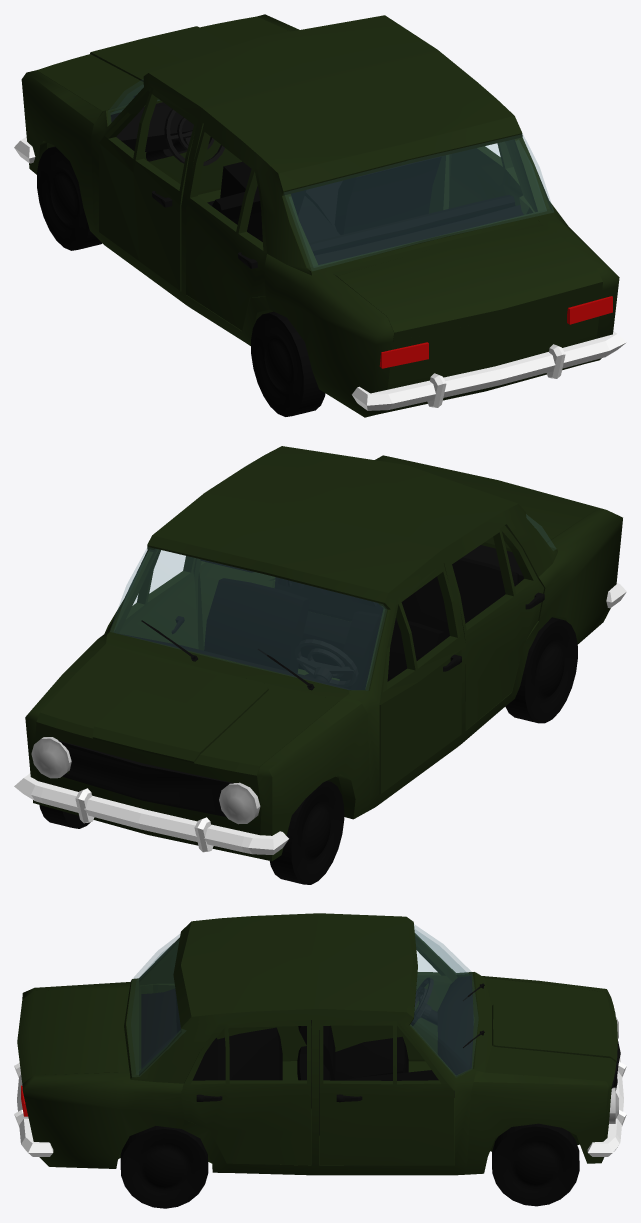
File: VAZ_2110.FBX
3 renders of one model, top to bottom at view 1: azimuth 30°, elevation 25°; view 2: azimuth 150°, elevation 25°; view 3: azimuth 270°, elevation 25°, orthographic. The views are drawn at different scales.
Parts seen in each view (by area): view 1: VAZ_2101_Body_002, VAZ_2101_Bagaj_002, VAZ_2101_wing_backwrd_left_001, VAZ_2101_door_forward_left_002, VAZ_2101_door_backward_left_01, VAZ_2101_Hood_002, VAZ_2101_wing_forwrd_left_002, VAZ_2101_Ram_backwd_002, VAZ_2101_wheel_Backwd_left_002, VAZ_2101_wheel_Forwd_left_002, VAZ_2101_door_backward_right_002, object 14 (+2 smaller); view 2: VAZ_2101_Body_002, VAZ_2101_Hood_002, VAZ_2101_door_forward_left_002, VAZ_2101_wing_forwrd_left_002, VAZ_2101_door_backward_left_01, VAZ_2101_wing_backwrd_left_001, VAZ_2101_ram_forward_002, VAZ_2101_wheel_Backwd_left_002, VAZ_2101_wheel_Forwd_left_002, VAZ_2101_door_forward_right_002, VAZ_2101_Bagaj_002, VAZ_2101_door_backward_right_002 (+3 smaller); view 3: VAZ_2101_Body_002, VAZ_2101_door_forward_right_002, VAZ_2101_Hood_002, object 14, VAZ_2101_door_backward_right_002, VAZ_2101_wing_w, VAZ_2101_Bagaj_002, VAZ_2101_wheel_Forwd_right_002, VAZ_2101_wheel_Backwd_right_002, VAZ_2101_door_forward_left_002, VAZ_2101_ram_forward_002, VAZ_2101_door_backward_left_01 (+4 smaller).
Boxes of the visible parts, x1,y1,x2,y2 form: VAZ_2101_Body_002: [47, 15, 612, 414]; VAZ_2101_Bagaj_002: [337, 225, 602, 341]; VAZ_2101_wing_backwrd_left_001: [264, 254, 393, 417]; VAZ_2101_door_forward_left_002: [99, 87, 197, 290]; VAZ_2101_door_backward_left_01: [186, 124, 266, 330]; VAZ_2101_Hood_002: [36, 16, 289, 111]; VAZ_2101_wing_forwrd_left_002: [21, 70, 102, 238]; VAZ_2101_Ram_backwd_002: [352, 331, 626, 410]; VAZ_2101_wheel_Backwd_left_002: [251, 311, 325, 416]; VAZ_2101_wheel_Forwd_left_002: [37, 146, 102, 250]; VAZ_2101_door_backward_right_002: [448, 141, 522, 208]; object 14: [519, 195, 619, 363]; VAZ_2101_Body_002: [31, 446, 557, 858]; VAZ_2101_Hood_002: [36, 644, 339, 775]; VAZ_2101_door_forward_left_002: [379, 563, 461, 794]; VAZ_2101_wing_forwrd_left_002: [257, 694, 369, 861]; VAZ_2101_door_backward_left_01: [449, 525, 544, 730]; VAZ_2101_wing_backwrd_left_001: [537, 508, 622, 644]; VAZ_2101_ram_forward_002: [14, 773, 288, 854]; VAZ_2101_wheel_Backwd_left_002: [505, 617, 577, 723]; VAZ_2101_wheel_Forwd_left_002: [269, 781, 344, 884]; VAZ_2101_door_forward_right_002: [104, 549, 198, 649]; VAZ_2101_Bagaj_002: [384, 457, 598, 541]; VAZ_2101_door_backward_right_002: [198, 561, 271, 650]; VAZ_2101_Body_002: [21, 913, 620, 1175]; VAZ_2101_door_forward_right_002: [319, 1020, 453, 1165]; VAZ_2101_Hood_002: [485, 978, 617, 1086]; object 14: [22, 1072, 184, 1168]; VAZ_2101_door_backward_right_002: [180, 1020, 310, 1165]; VAZ_2101_wing_w: [465, 1070, 611, 1174]; VAZ_2101_Bagaj_002: [17, 988, 118, 1083]; VAZ_2101_wheel_Forwd_right_002: [492, 1123, 579, 1206]; VAZ_2101_wheel_Backwd_right_002: [120, 1126, 208, 1208]; VAZ_2101_door_forward_left_002: [331, 945, 452, 1059]; VAZ_2101_ram_forward_002: [587, 1057, 626, 1156]; VAZ_2101_door_backward_left_01: [216, 1026, 306, 1060].
Bounding box in the file's own units: 468 × 361 × 1025.
